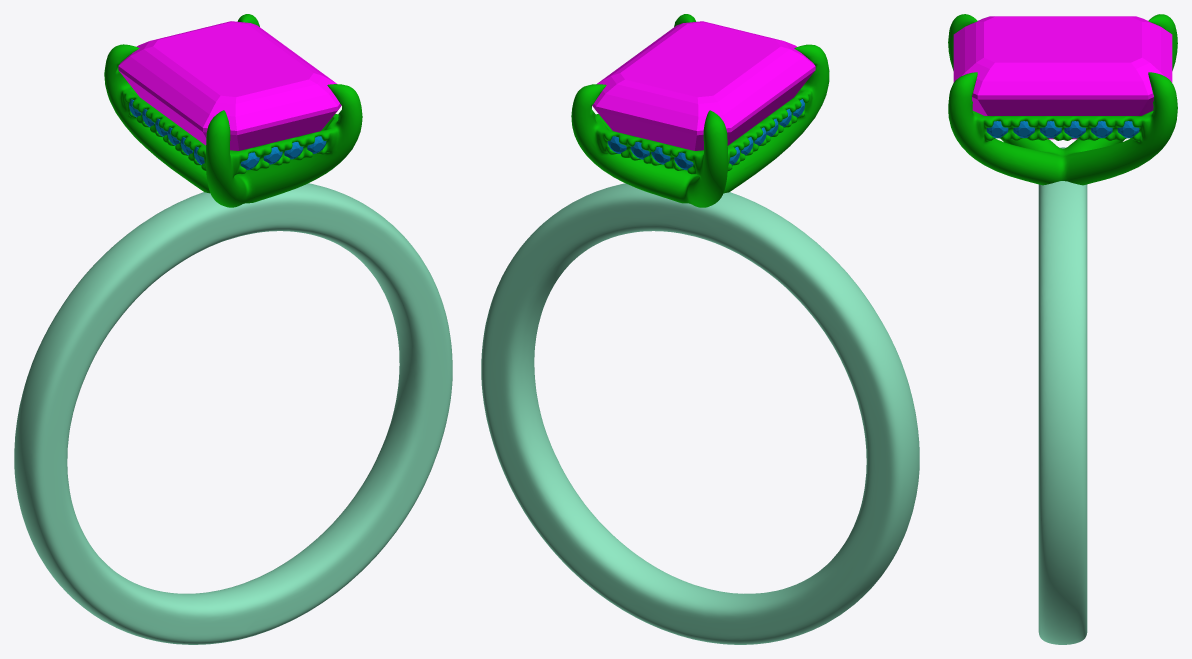
The model's file is BE1D327_EM_200ct_RENDER.glb.
The picture shows the model from 3 angles, left to right: view 1: azimuth 30°, elevation 25°; view 2: azimuth 150°, elevation 25°; view 3: azimuth 270°, elevation 25°; orthographic projection.
Visible parts, largest first — view 1: Metal 01, CS_Diamond_Emerald, Metal 02; view 2: Metal 01, CS_Diamond_Emerald, Metal 02; view 3: Metal 01, CS_Diamond_Emerald, Metal 02.
Boxes of the visible parts, bbox=[...] form: Metal 01: bbox=[14, 183, 452, 644]; CS_Diamond_Emerald: bbox=[118, 21, 341, 150]; Metal 02: bbox=[104, 14, 362, 207]; Metal 01: bbox=[481, 183, 919, 644]; CS_Diamond_Emerald: bbox=[592, 21, 815, 150]; Metal 02: bbox=[571, 14, 829, 207]; Metal 01: bbox=[1038, 147, 1087, 644]; CS_Diamond_Emerald: bbox=[953, 16, 1172, 139]; Metal 02: bbox=[948, 14, 1177, 185].
Size of the model in its own units: 20.5 by 26.45 by 9.46.
